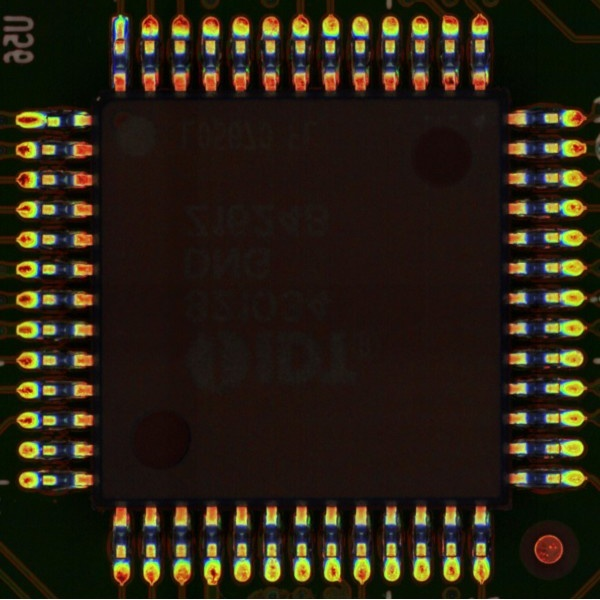Bad_podu: (115, 29, 125, 45)
